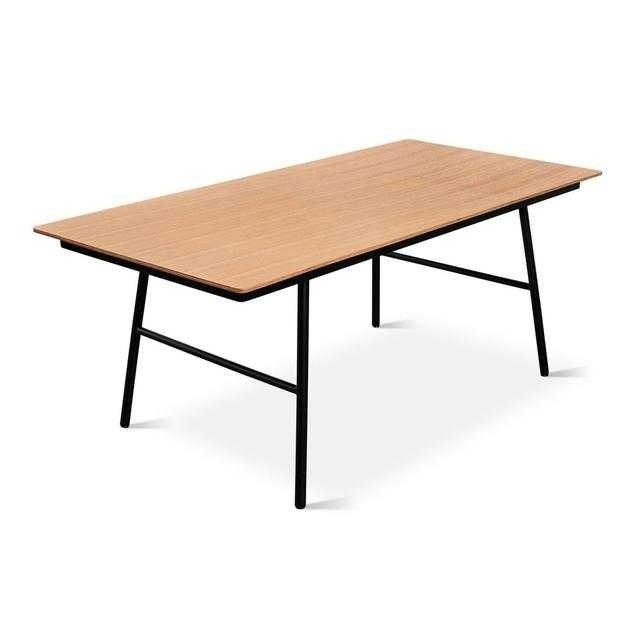obstacle: (35, 139, 600, 508)
